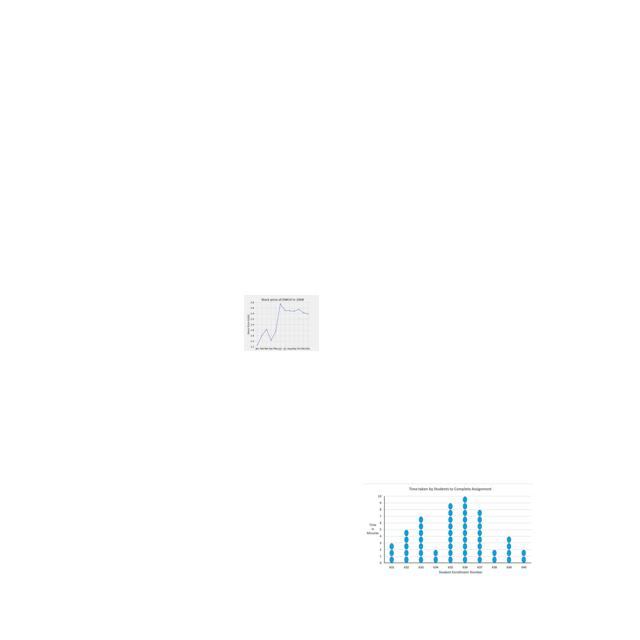Graph: (364, 483, 533, 578), (244, 295, 319, 351)
